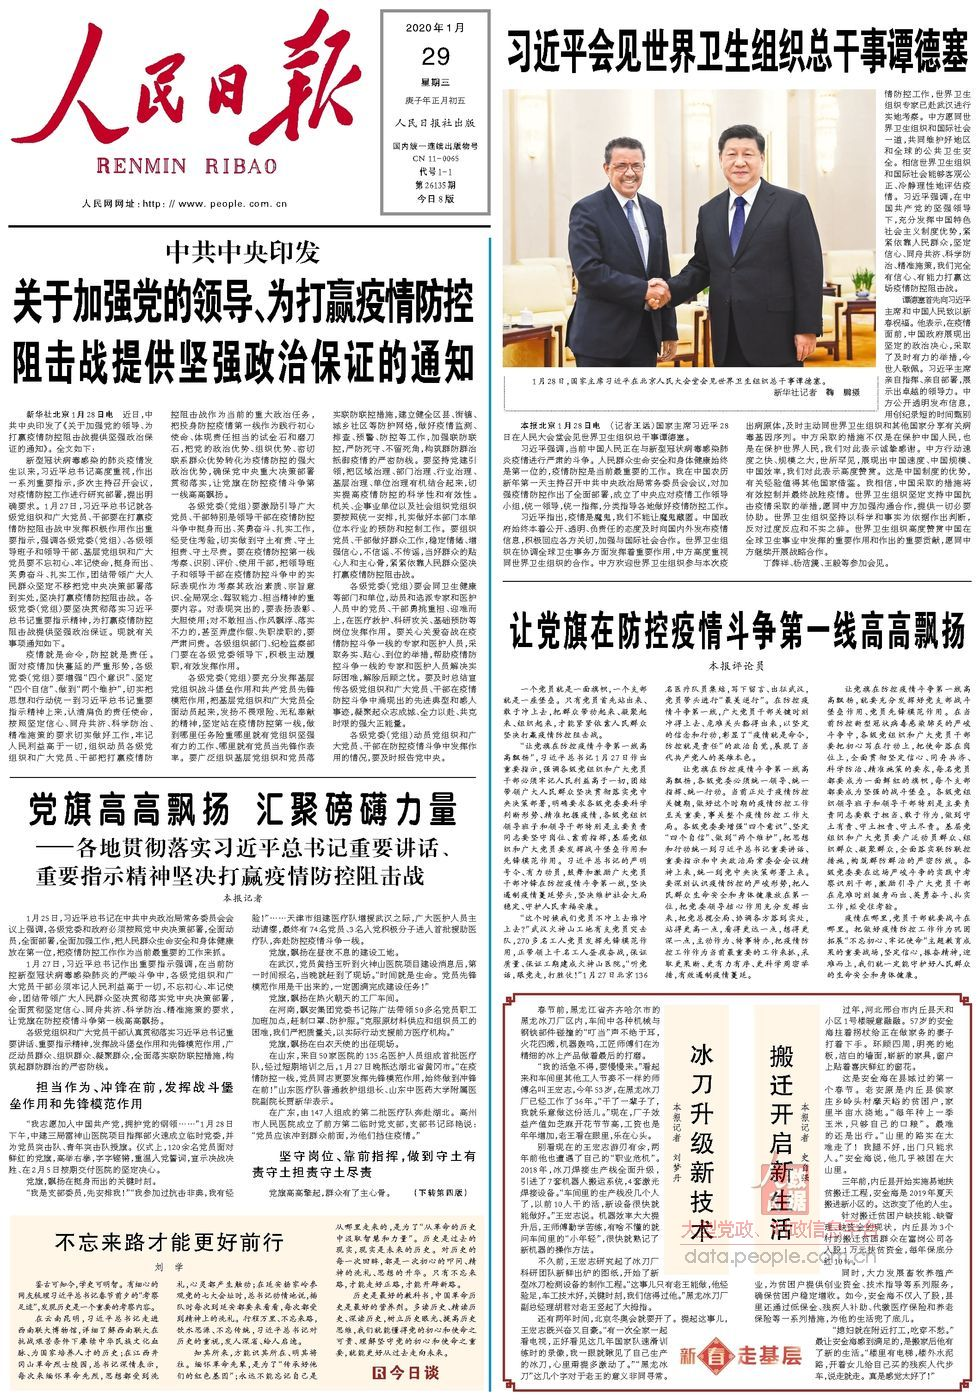pic: (499, 82, 881, 373)
